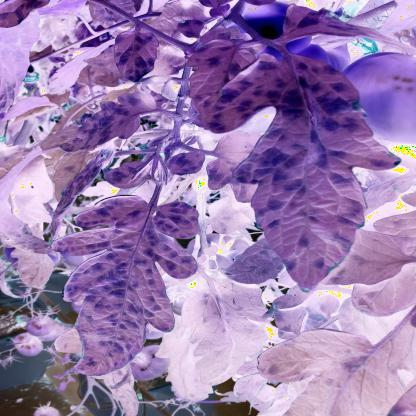tomato mold leaf: (216, 56, 373, 290), (52, 194, 198, 378), (58, 91, 172, 155), (187, 34, 263, 99), (283, 1, 381, 43), (224, 228, 289, 286), (112, 30, 157, 87), (165, 151, 209, 179), (102, 160, 144, 189)
